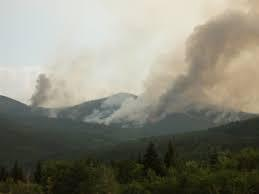yanwu: (23, 0, 259, 124)
